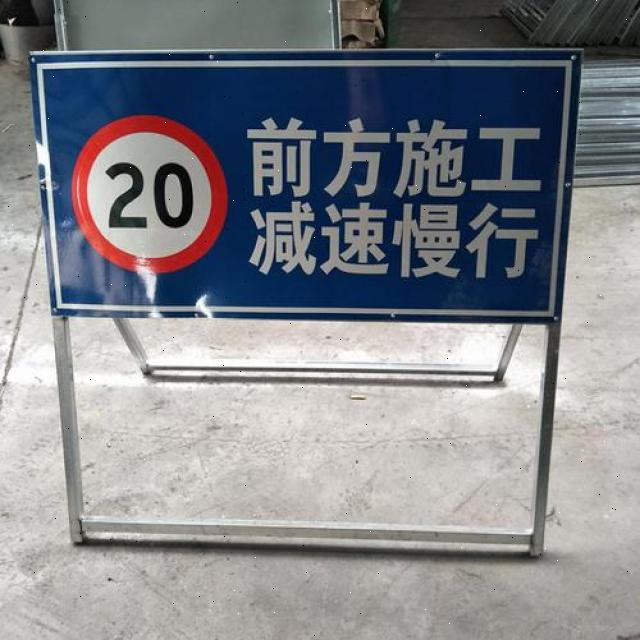speed limit 20: (69, 116, 229, 276)
